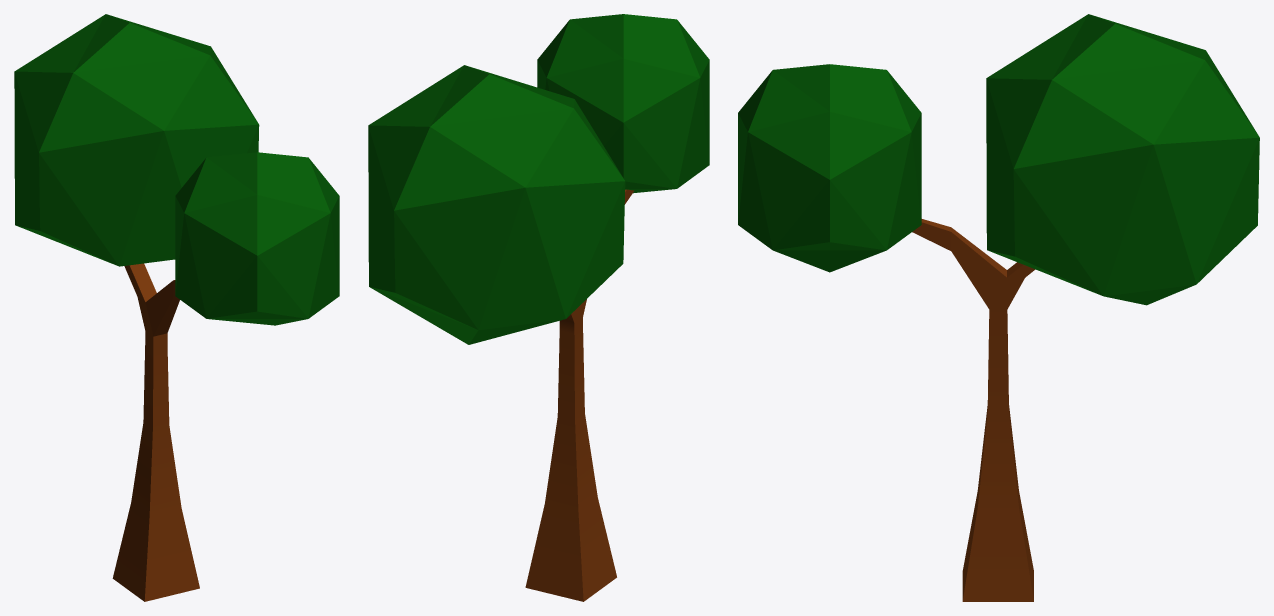
File: Low_poly_tree.FBX
3 views of the same model, side by side, from view 1: azimuth 30°, elevation 25°; view 2: azimuth 150°, elevation 25°; view 3: azimuth 270°, elevation 25° (orthographic). The views are drawn at different scales.
Visible parts, largest first — view 1: GeoSphere004, GeoSphere003, Box005; view 2: GeoSphere004, GeoSphere003, Box005; view 3: GeoSphere004, GeoSphere003, Box005.
Boxes of the visible parts, box(x1,y1,x2,y2) form: GeoSphere004: box(14, 14, 259, 266); GeoSphere003: box(175, 152, 339, 325); Box005: box(112, 263, 199, 601); GeoSphere004: box(368, 65, 625, 344); GeoSphere003: box(537, 14, 709, 193); Box005: box(525, 189, 634, 601); GeoSphere004: box(986, 14, 1259, 305); GeoSphere003: box(738, 64, 921, 272); Box005: box(912, 219, 1035, 601).
Bounding box in the file's own units: 47.15 × 111 × 90.6.
